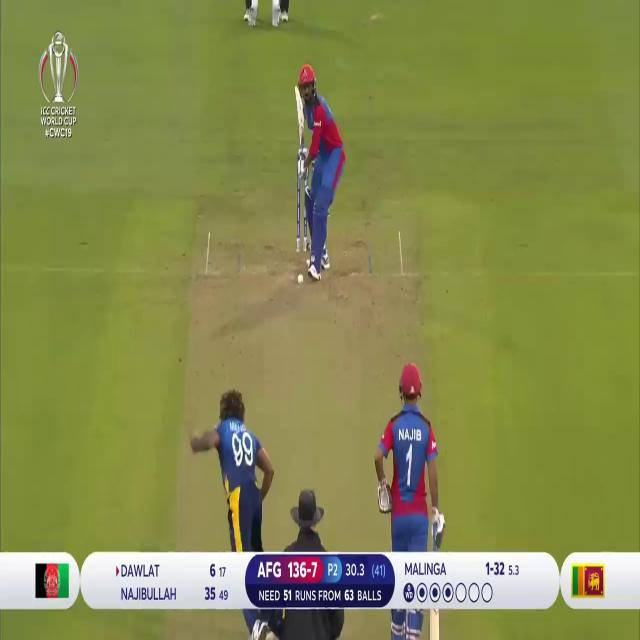ball: (297, 270, 303, 284)
